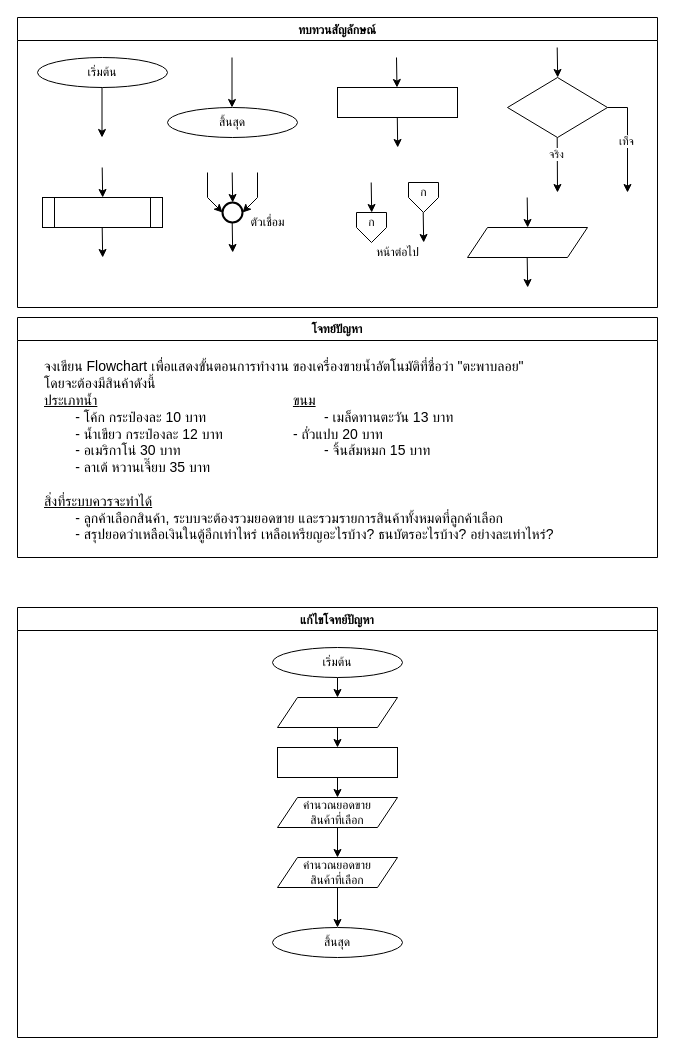
Some shapes in this 675 by 1055 pixel diagram are drawn without their labels. Each missing label, with the centre of its shape:
กระบวนการ: (397,102)
ประโยคเงื่อนไข: (557,107)
ฟังก์ชัน/โมดูล: (102,212)
รับข้อมูลการเลือก สินค้า: (337,762)
แสดงผล/รับค่า: (527,242)
แสดงรายการ ให้ลูกค้าเลือก: (337,712)
